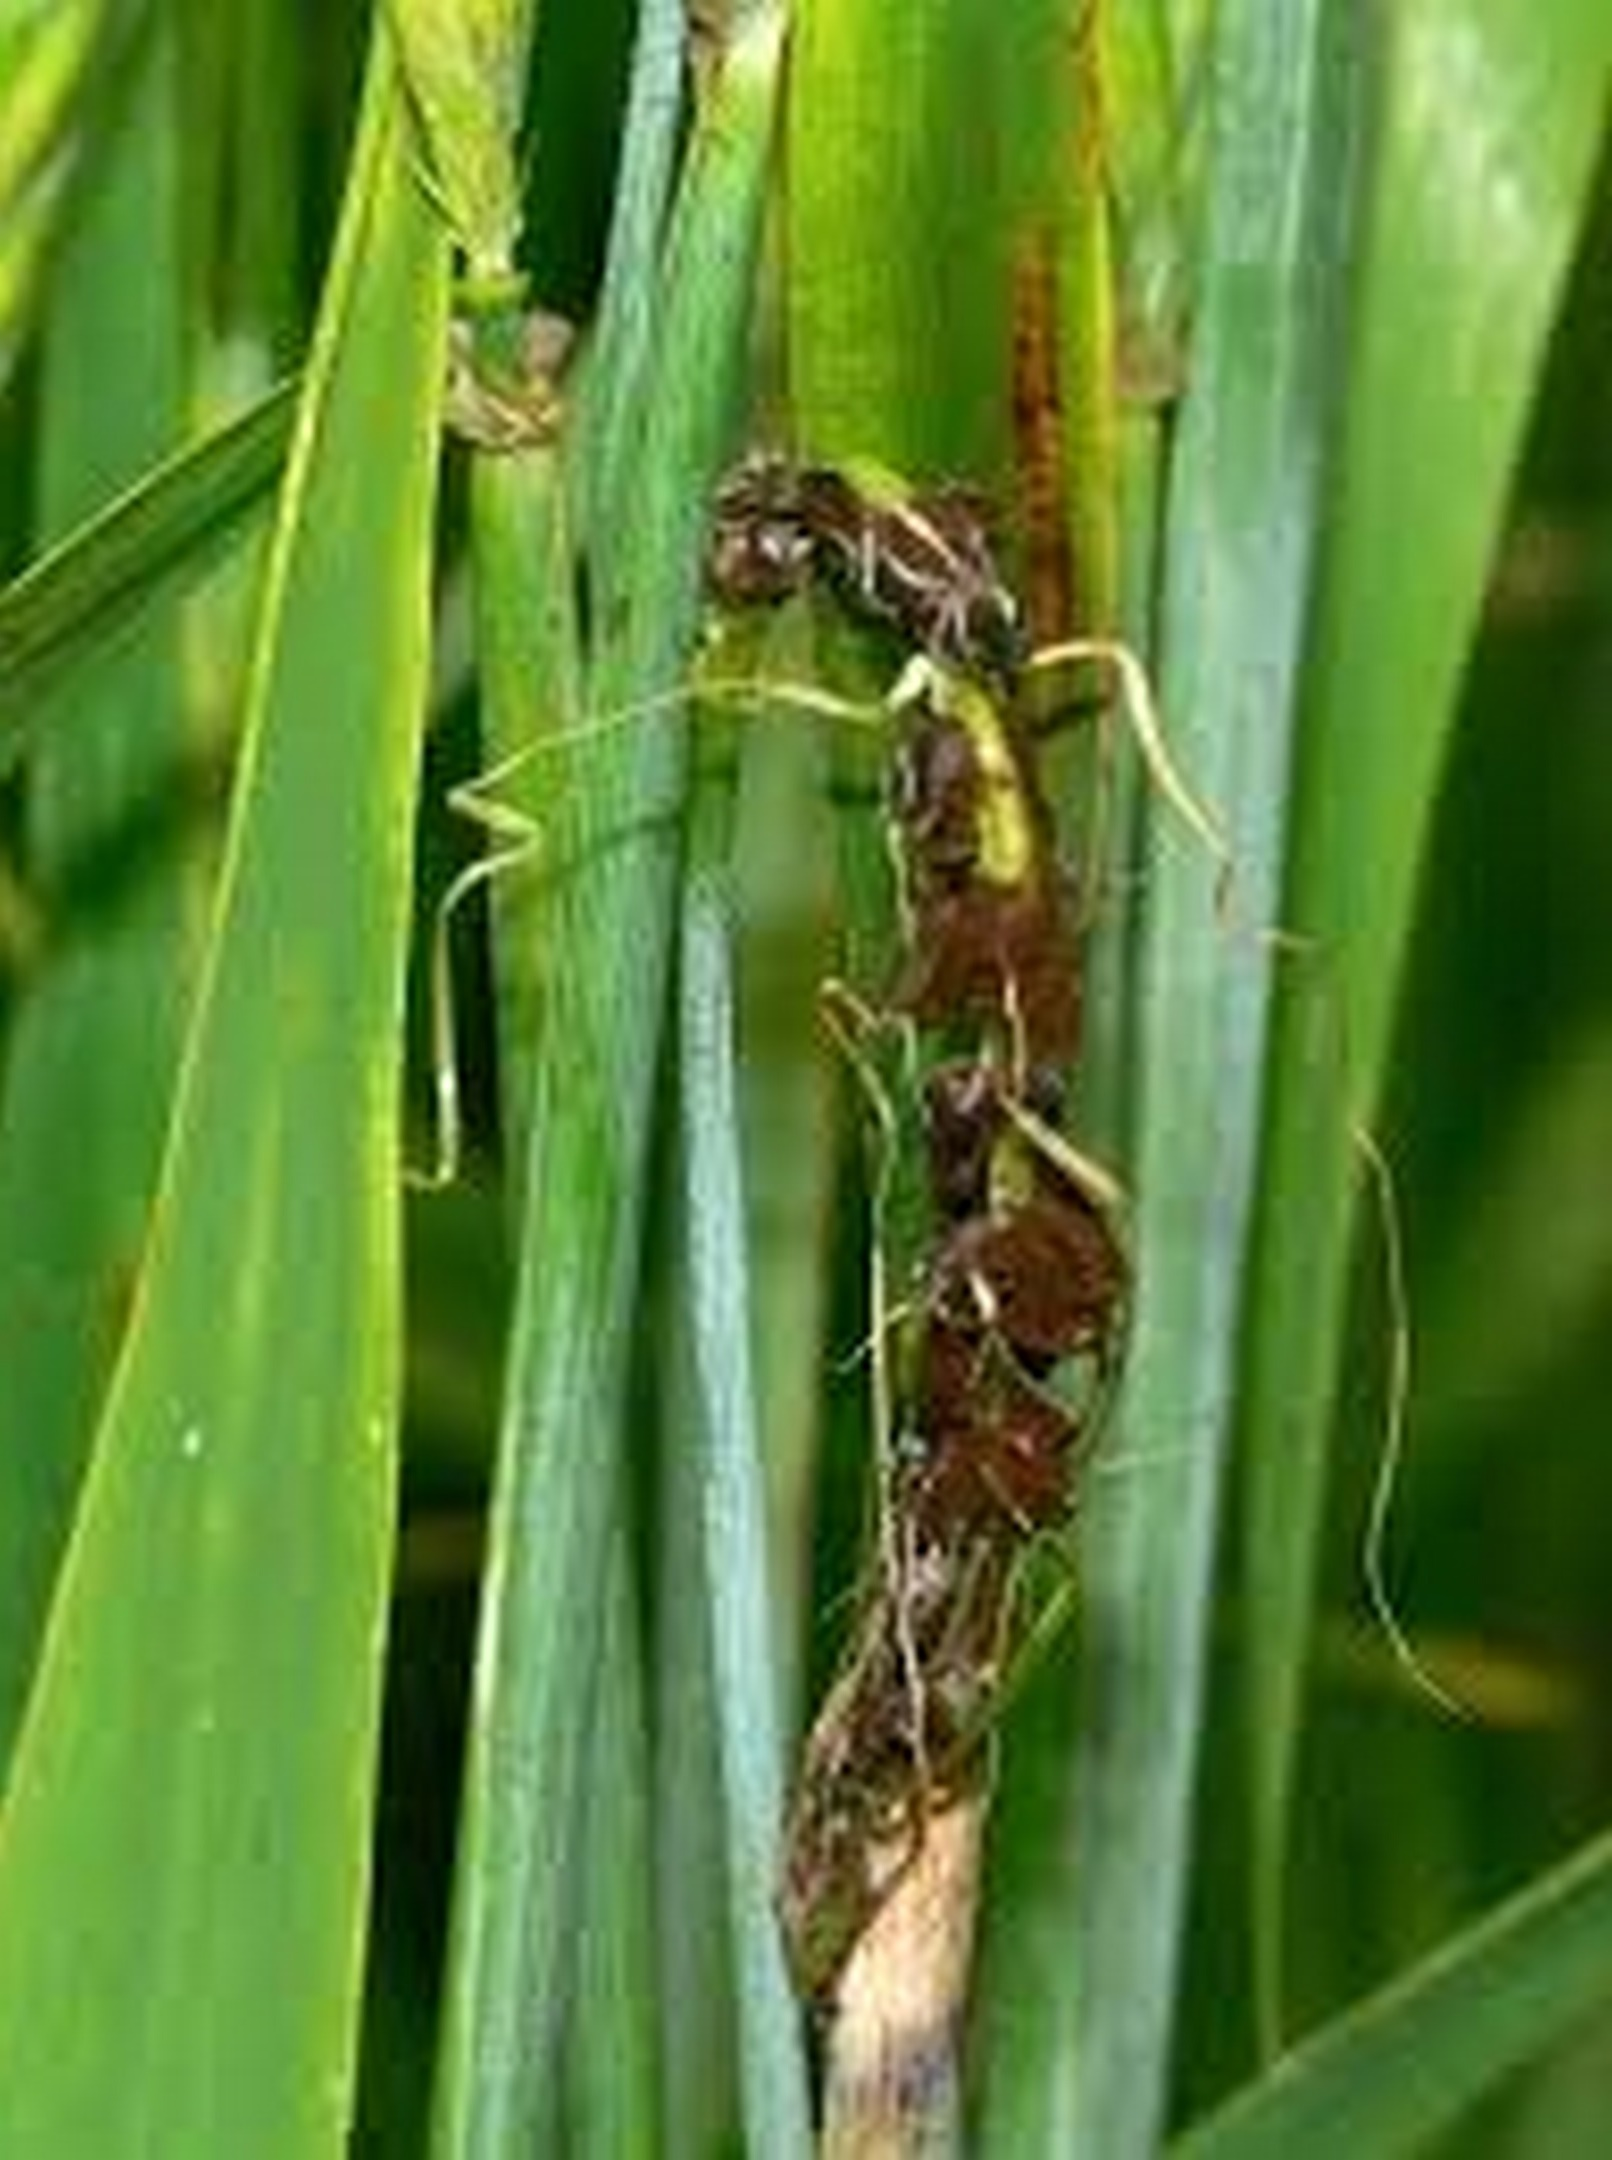Wheat Loose Smut: (669, 423, 1168, 1847)
